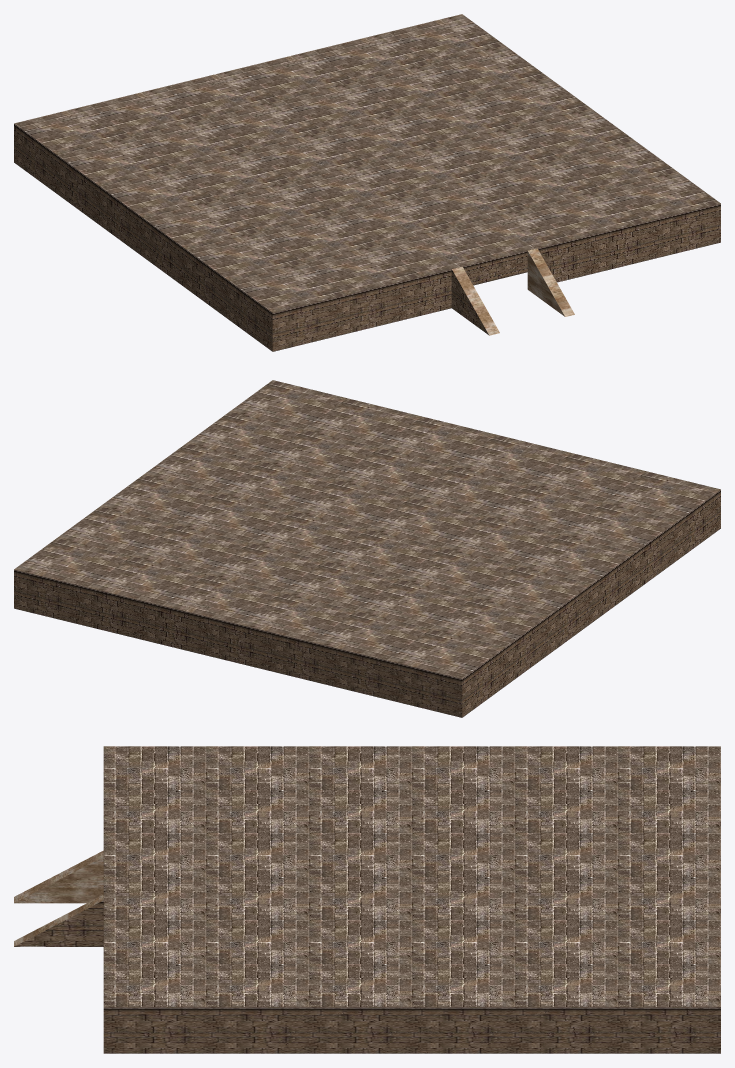
3 renders of one model, top to bottom at view 1: azimuth 30°, elevation 25°; view 2: azimuth 150°, elevation 25°; view 3: azimuth 270°, elevation 25°, orthographic. The views are drawn at different scales.
Parts seen in each view (by area): view 1: Object08; view 2: Object08; view 3: Object08.
Boxes of the visible parts, x1,y1,x2,y2 form: Object08: (14,14,720,351); Object08: (14,380,720,717); Object08: (14,746,720,1053).
Size of the model in its own units: 600 by 50 by 687.
